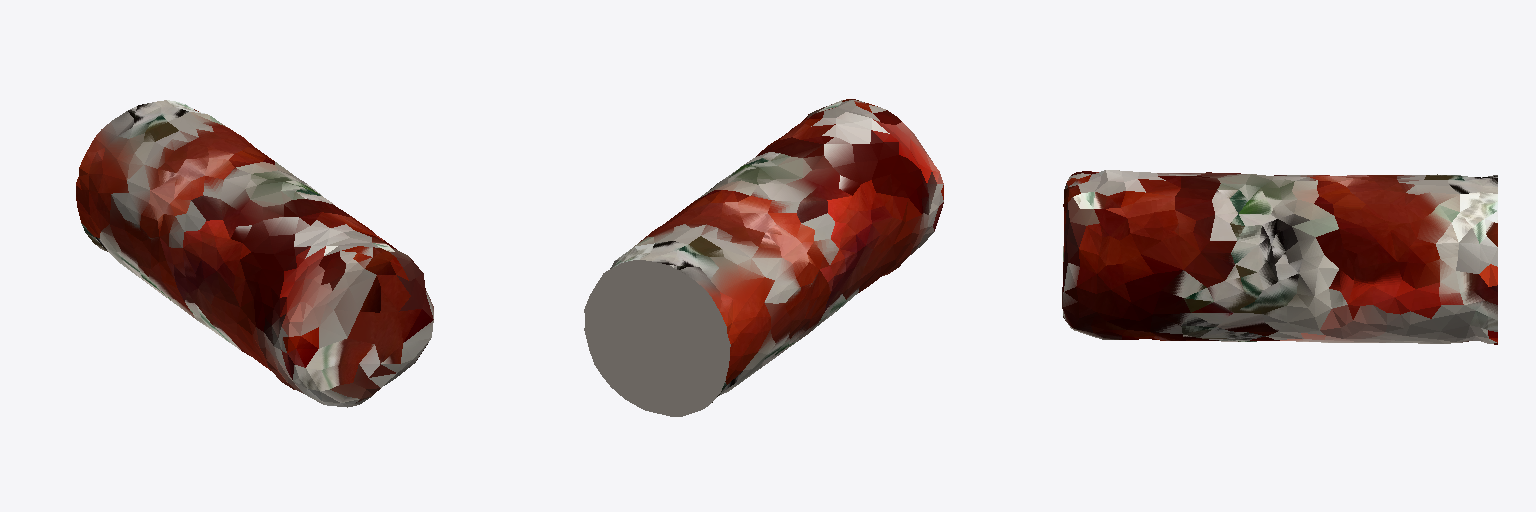
3 views of the same model, side by side, from view 1: azimuth 30°, elevation 25°; view 2: azimuth 150°, elevation 25°; view 3: azimuth 270°, elevation 25° (orthographic).
Size of the model in its own units: 0.0742 by 0.073 by 0.1818.
Materials: 1 (1 with a texture image).